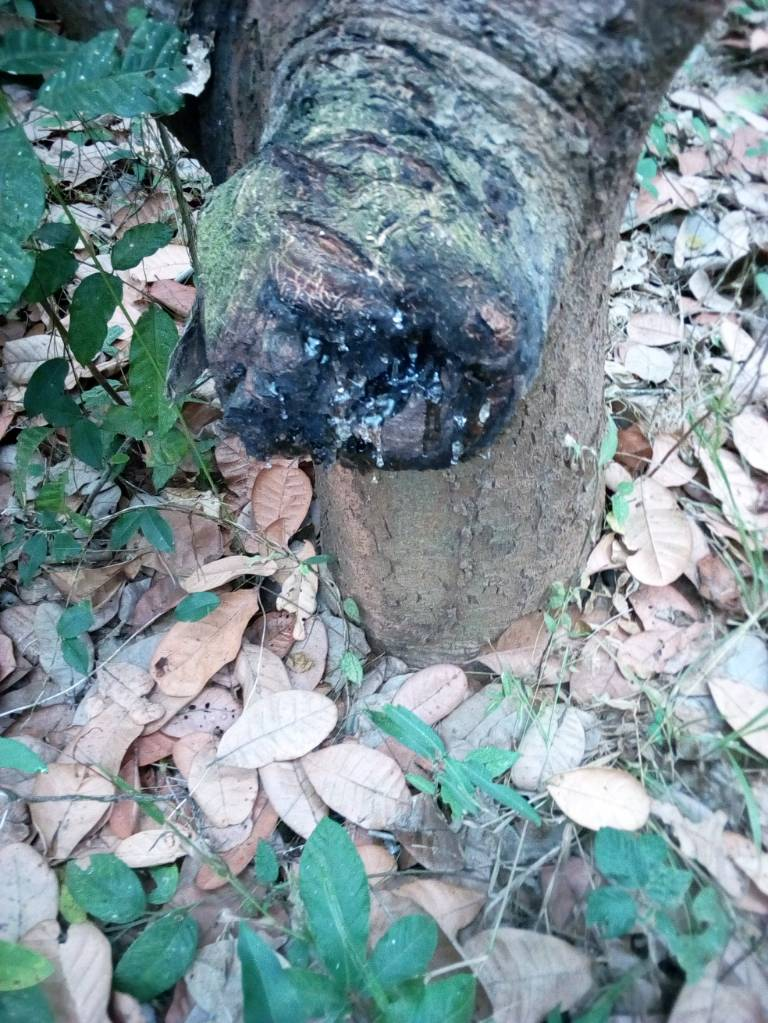Gommose: (227, 308, 519, 475)
